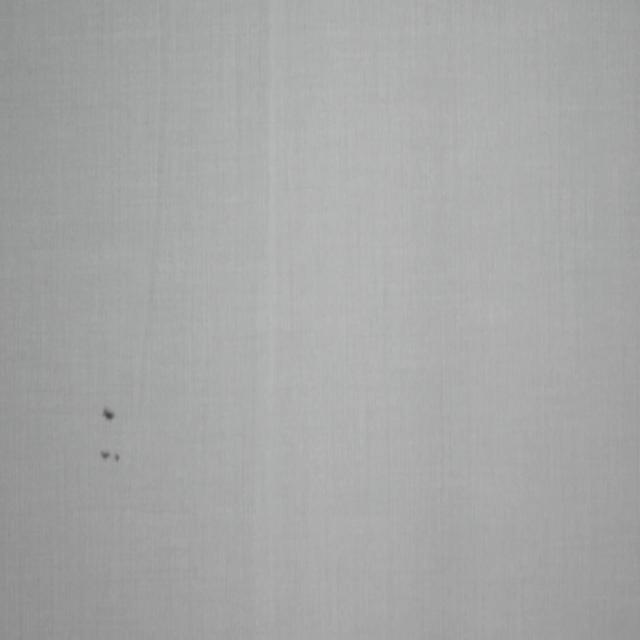dirty: (100, 449, 121, 463), (101, 406, 115, 422)
